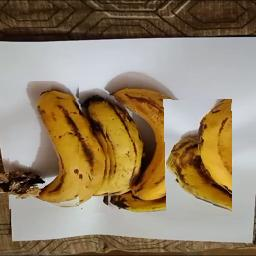Banana Semifresh: (105, 73, 201, 219), (10, 82, 107, 211), (79, 75, 143, 213), (164, 99, 233, 216)
